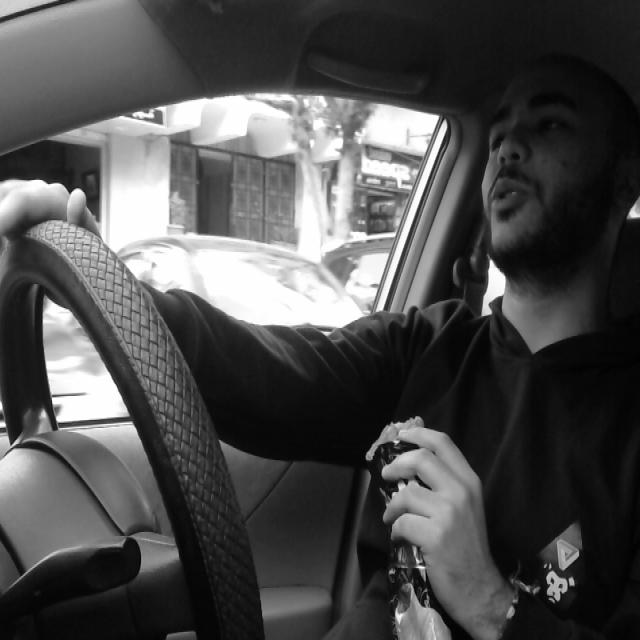eating: (359, 394, 450, 640)
